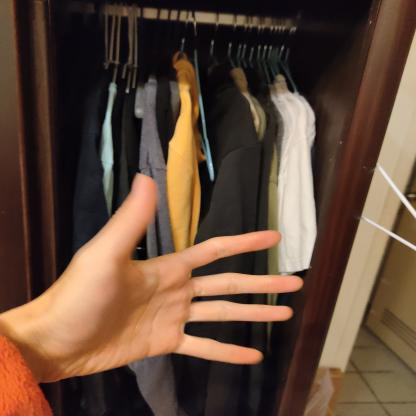bare_hand: (10, 166, 307, 416)
